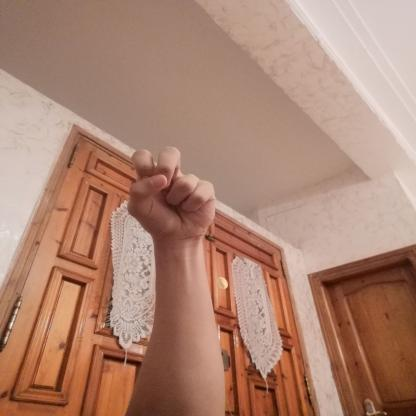QAAF: (115, 140, 230, 250)
